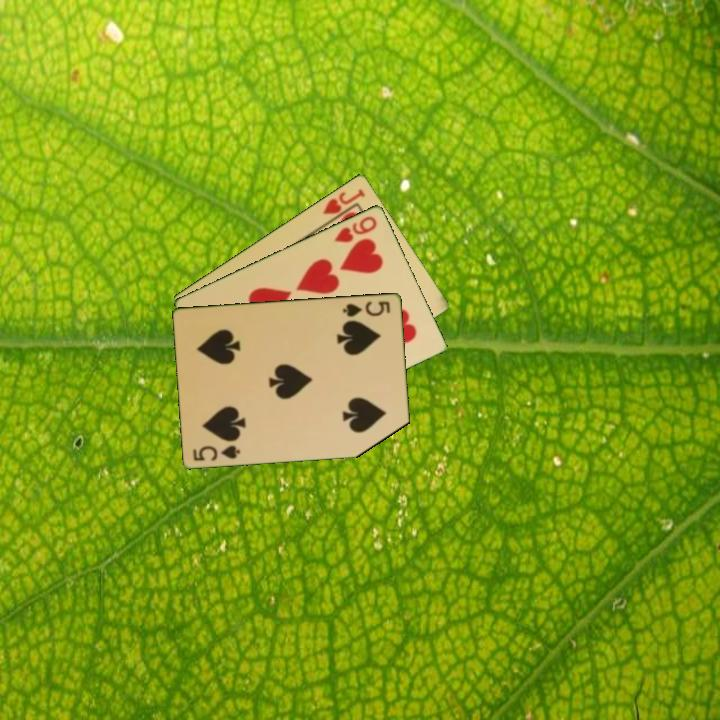5s: (340, 297, 393, 320), (190, 441, 243, 463)
9h: (331, 212, 380, 245)
Jh: (319, 185, 368, 226)
